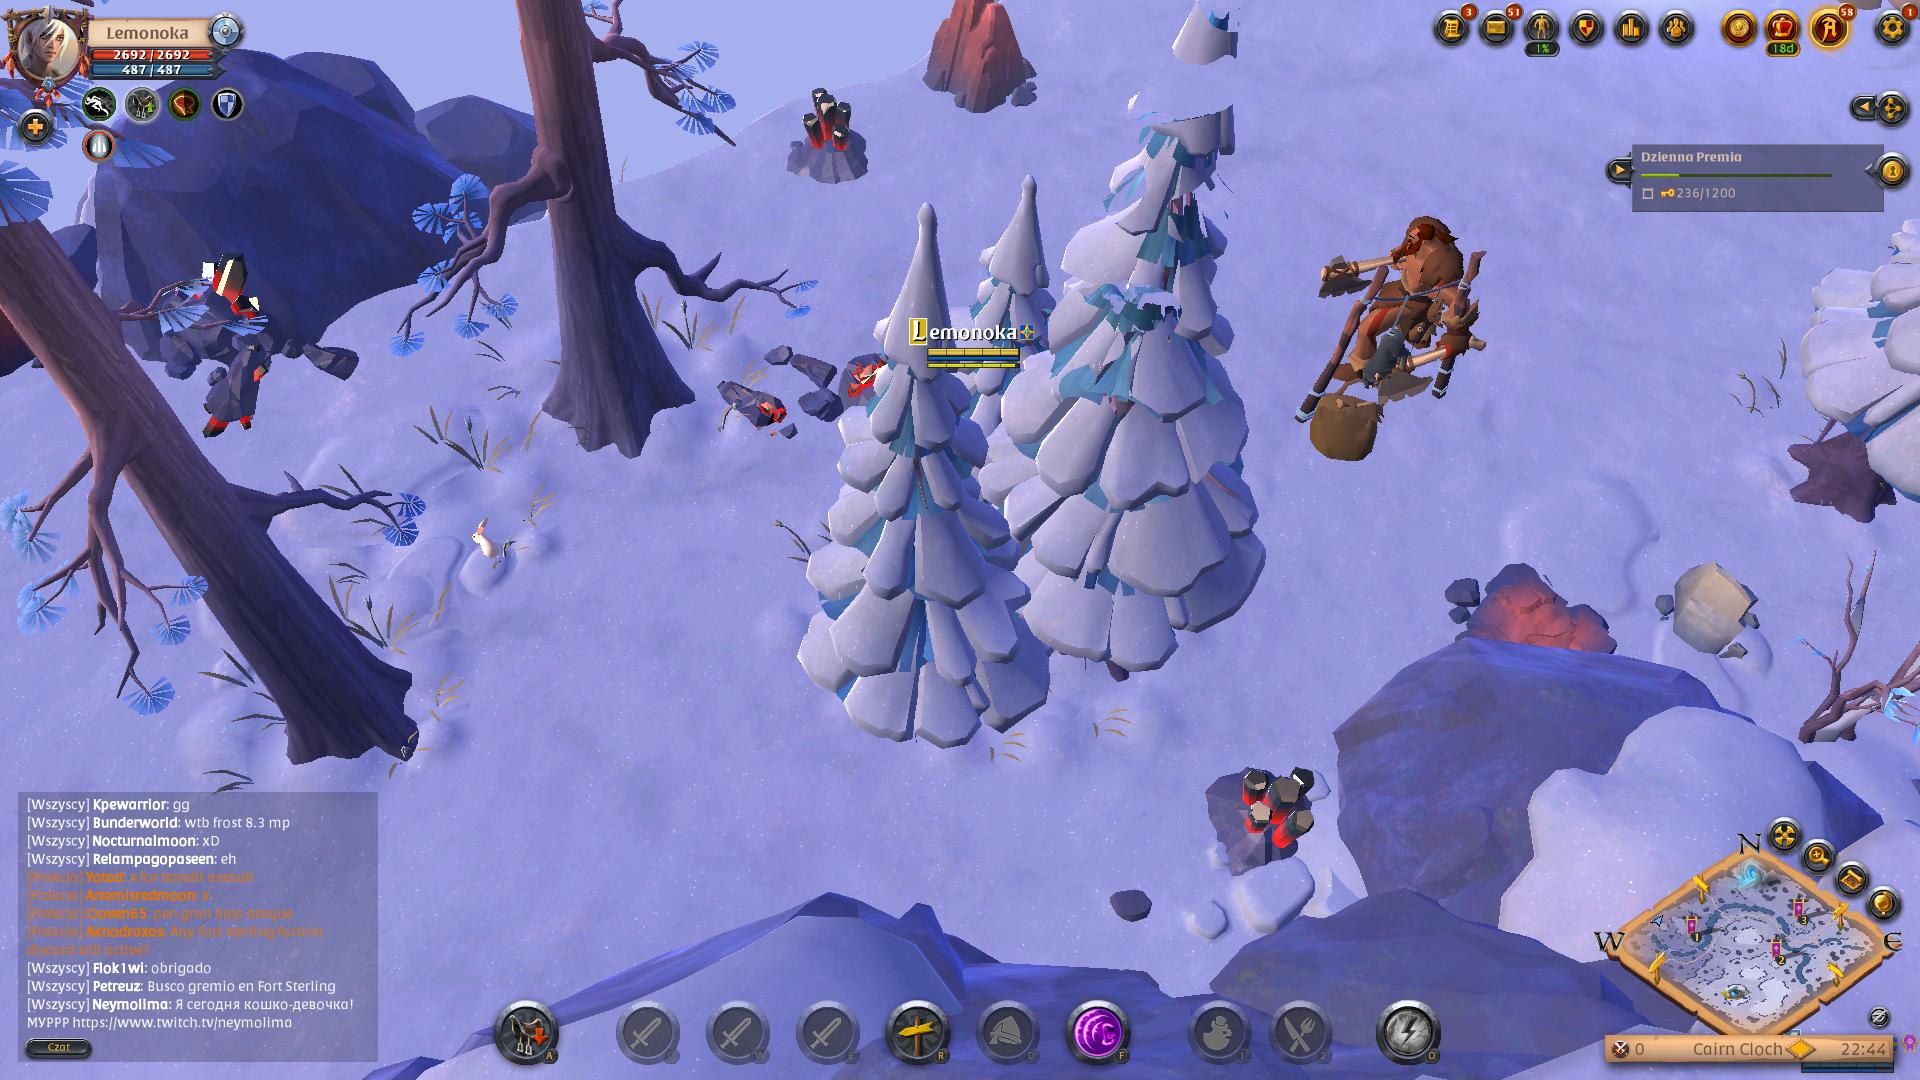ore tier 5: (1204, 754, 1323, 876), (785, 88, 873, 187)
rock tier 1: (1662, 556, 1764, 670)
rock tier 5: (919, 0, 1030, 124)
